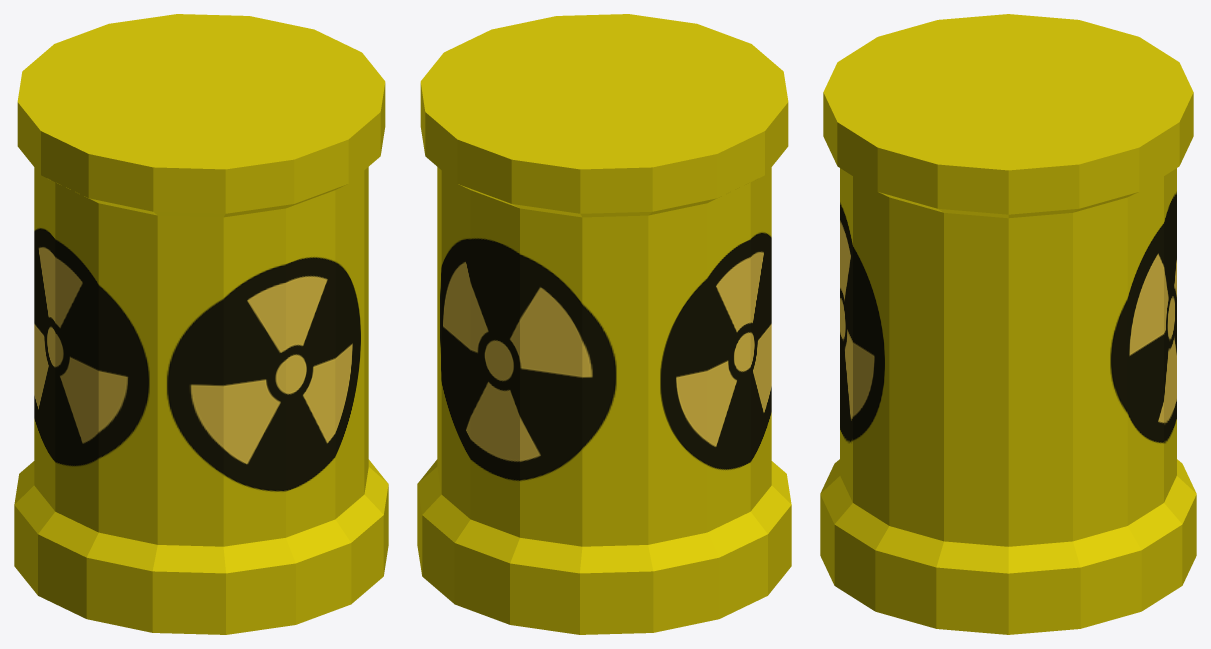
The model's file is beczka.fbx.
3 views of the same model, side by side, from view 1: azimuth 30°, elevation 25°; view 2: azimuth 150°, elevation 25°; view 3: azimuth 270°, elevation 25° (orthographic).
Visible parts, largest first — view 1: beczka; view 2: beczka; view 3: beczka.
Boxes of the visible parts, box(x1,y1,x2,y2) form: beczka: box(14, 14, 388, 634); beczka: box(417, 14, 791, 634); beczka: box(820, 14, 1196, 634).
Bounding box in the file's own units: 224 × 304 × 224.
